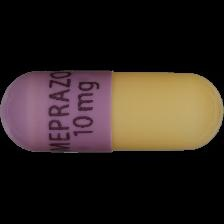55111-157: (0, 0, 224, 224)
